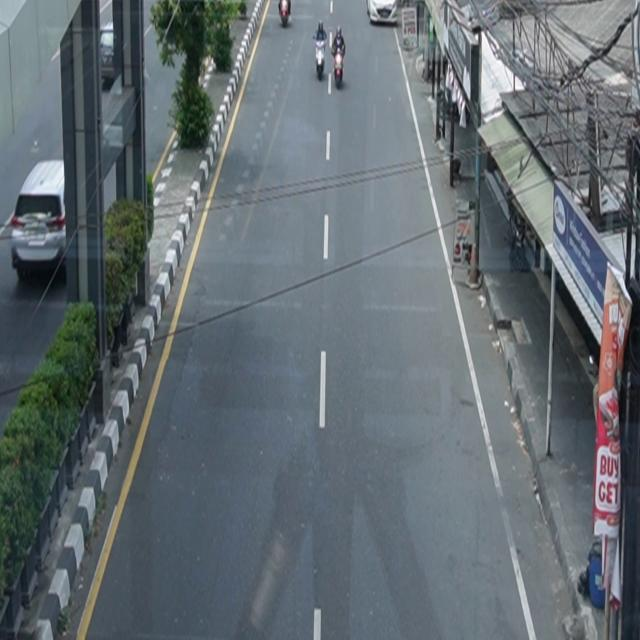car: (11, 160, 67, 282), (367, 1, 399, 26)
